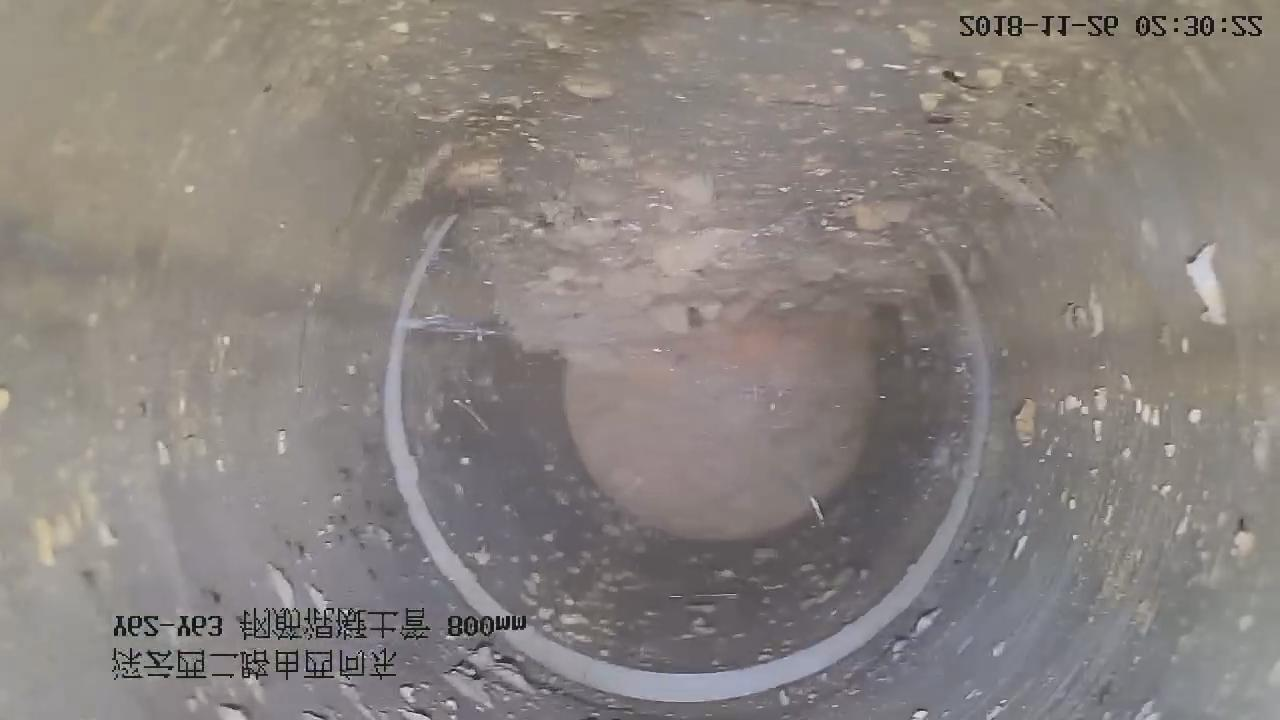CJ: (375, 1, 1156, 341)
CKTJ: (374, 202, 999, 708)
